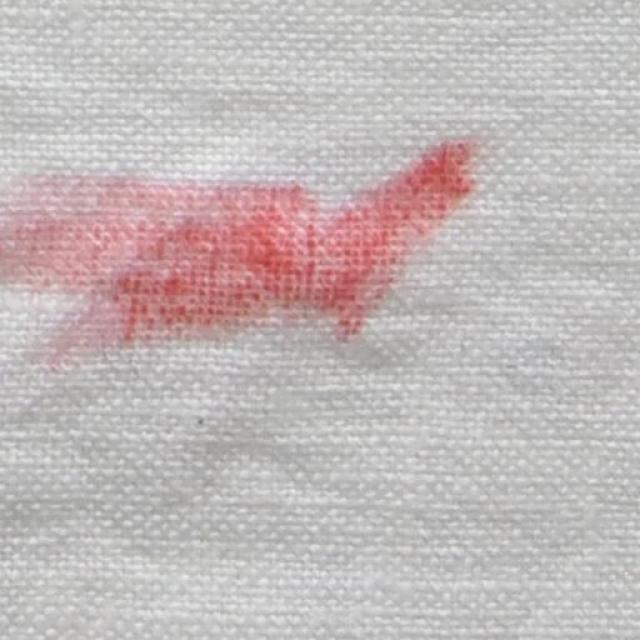Stain: (0, 141, 476, 365)
